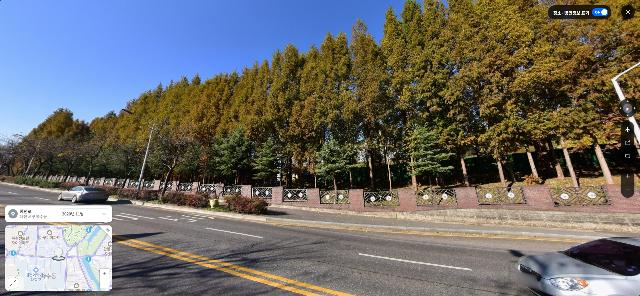other: (1, 1, 640, 191), (509, 0, 639, 184), (446, 1, 556, 185), (376, 0, 472, 189), (342, 9, 405, 188), (301, 25, 363, 191), (264, 39, 312, 186), (230, 55, 278, 183), (160, 70, 211, 182), (196, 65, 244, 183), (148, 115, 209, 198), (82, 111, 147, 187), (127, 80, 171, 181), (400, 127, 458, 193), (28, 106, 77, 175), (53, 129, 115, 183), (312, 137, 365, 191), (211, 126, 255, 184), (25, 131, 69, 177), (250, 133, 284, 186), (1, 135, 29, 174)
